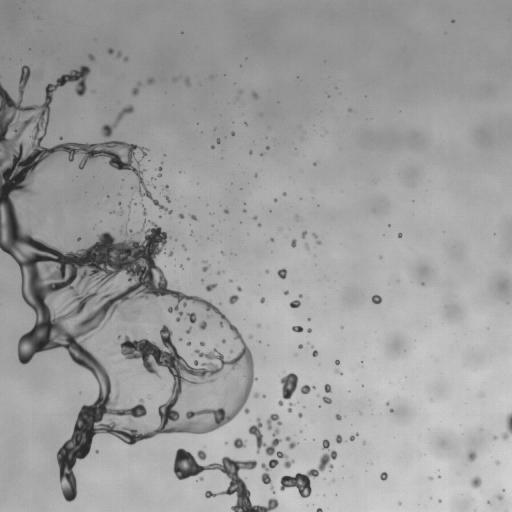droplet: (280, 373, 298, 399), (266, 413, 281, 430), (110, 201, 124, 216), (285, 436, 297, 449), (233, 437, 246, 448), (300, 385, 315, 394), (470, 476, 481, 488), (371, 294, 381, 304), (277, 268, 286, 279), (467, 450, 476, 461), (198, 320, 207, 330), (197, 450, 206, 460), (289, 300, 300, 308), (229, 294, 238, 303), (206, 283, 216, 291), (202, 260, 209, 271), (322, 396, 332, 403), (292, 326, 303, 332), (335, 434, 342, 443), (324, 384, 331, 392), (380, 472, 387, 480), (185, 327, 192, 334), (189, 214, 196, 220), (185, 78, 190, 86), (291, 239, 296, 247), (88, 54, 94, 60), (312, 350, 318, 356), (335, 414, 341, 420), (147, 78, 154, 83), (301, 231, 306, 238), (142, 208, 146, 216), (108, 48, 113, 54), (252, 92, 257, 98), (165, 196, 170, 202), (260, 297, 265, 303), (186, 340, 191, 346), (146, 394, 152, 399), (278, 400, 283, 406), (149, 412, 153, 419), (178, 213, 183, 218), (76, 237, 81, 242), (304, 244, 309, 249), (200, 341, 205, 346), (253, 392, 258, 397), (295, 215, 299, 221), (316, 239, 320, 244), (167, 252, 172, 256), (237, 286, 241, 291), (335, 360, 339, 365), (298, 412, 302, 417), (316, 508, 322, 511), (117, 52, 121, 56), (216, 139, 220, 143), (224, 209, 228, 213), (398, 233, 402, 237), (284, 290, 288, 294), (307, 328, 311, 332), (178, 337, 182, 341), (298, 344, 302, 348), (229, 349, 233, 353), (493, 435, 496, 440), (497, 496, 502, 499), (124, 57, 127, 61), (164, 185, 168, 188), (58, 204, 61, 208), (313, 234, 317, 237), (265, 270, 269, 273), (133, 330, 136, 334), (222, 339, 225, 343), (495, 461, 499, 464), (199, 477, 203, 480), (429, 476, 432, 480), (231, 132, 234, 135), (211, 146, 214, 149), (266, 146, 269, 149), (117, 193, 120, 196), (283, 192, 286, 195), (270, 238, 273, 241), (182, 246, 185, 249), (299, 294, 302, 297), (257, 324, 260, 327), (390, 409, 393, 412), (59, 137, 62, 139), (249, 151, 252, 153), (254, 174, 257, 176), (152, 185, 155, 187), (274, 199, 277, 201), (243, 209, 245, 212), (254, 216, 256, 219), (258, 223, 260, 226), (221, 252, 224, 254), (217, 271, 220, 273), (118, 335, 120, 338), (438, 475, 440, 478), (452, 20, 454, 22), (314, 163, 316, 165), (151, 178, 153, 180), (180, 265, 182, 267), (150, 319, 152, 321), (308, 318, 310, 320), (263, 395, 265, 397), (386, 402, 388, 404), (359, 412, 361, 414), (363, 441, 365, 443), (398, 502, 400, 504)
ligament: (0, 65, 256, 501), (173, 448, 278, 511), (280, 439, 337, 498), (248, 417, 294, 468), (101, 105, 133, 137), (261, 459, 278, 493), (502, 412, 511, 440), (132, 82, 140, 95), (349, 433, 358, 440), (287, 402, 293, 412), (132, 309, 141, 314), (157, 166, 161, 177), (335, 369, 342, 375), (127, 202, 131, 210), (118, 370, 125, 373), (58, 210, 61, 215)
